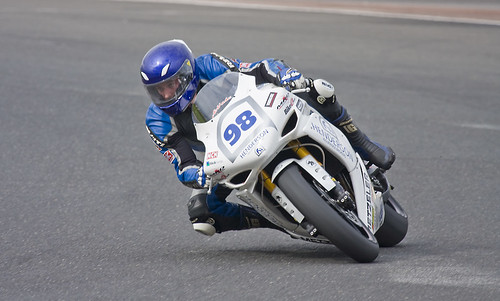helmet: (128, 36, 190, 119)
